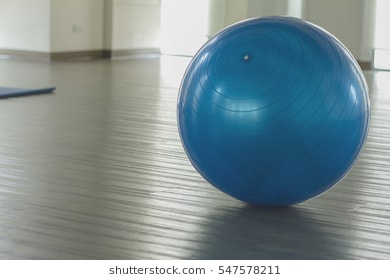blue ball: (176, 16, 373, 209)
